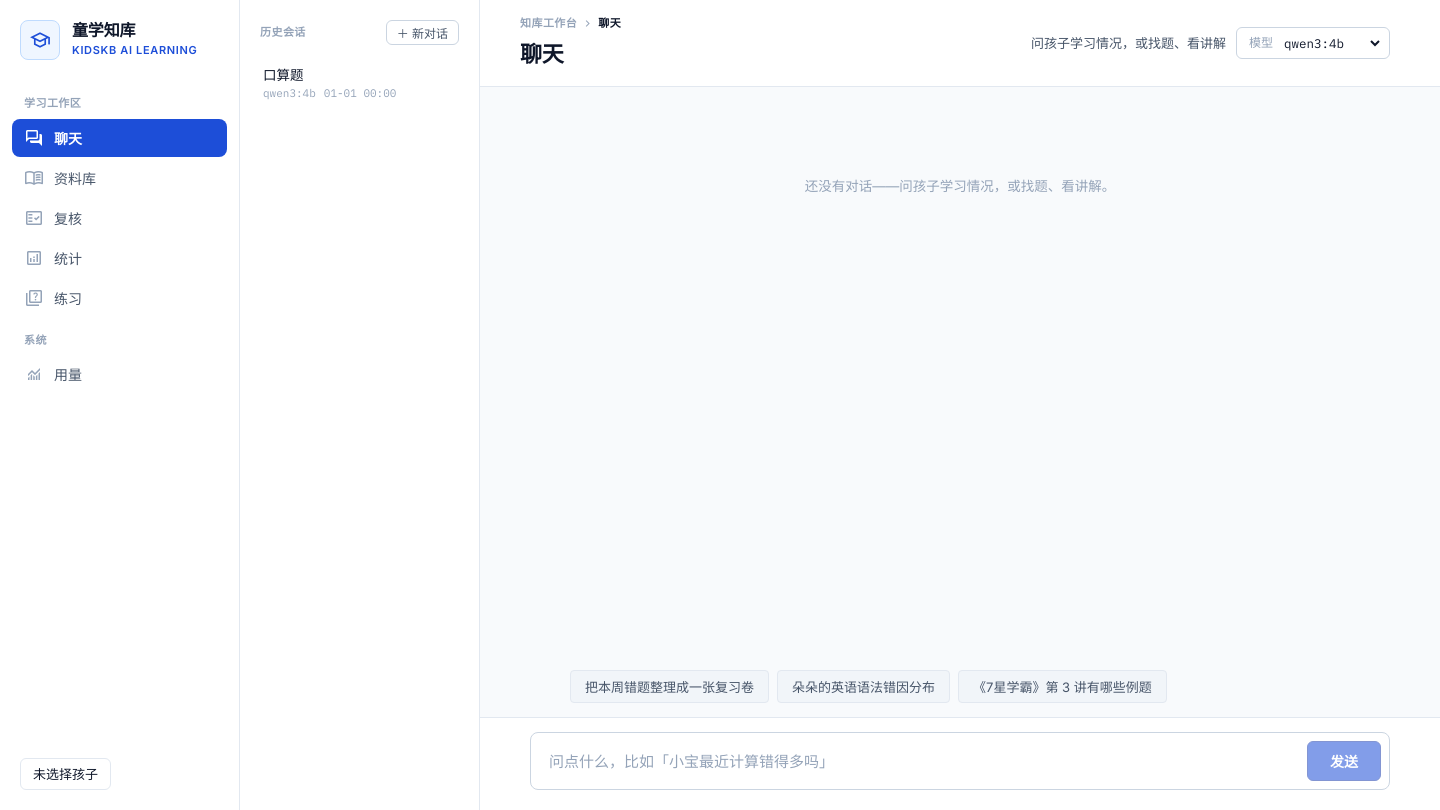
Test: App 集成（会话侧栏 + 模型下拉 + 聊天流） › 挂载加载会话列表与模型下拉；点击历史会话回看消息
Expected: the dropdown named "选择模型" shows "qwen3:4b", [1280,34,1383,52]
Click the text "口算题": (283, 74) [263,64,304,84]
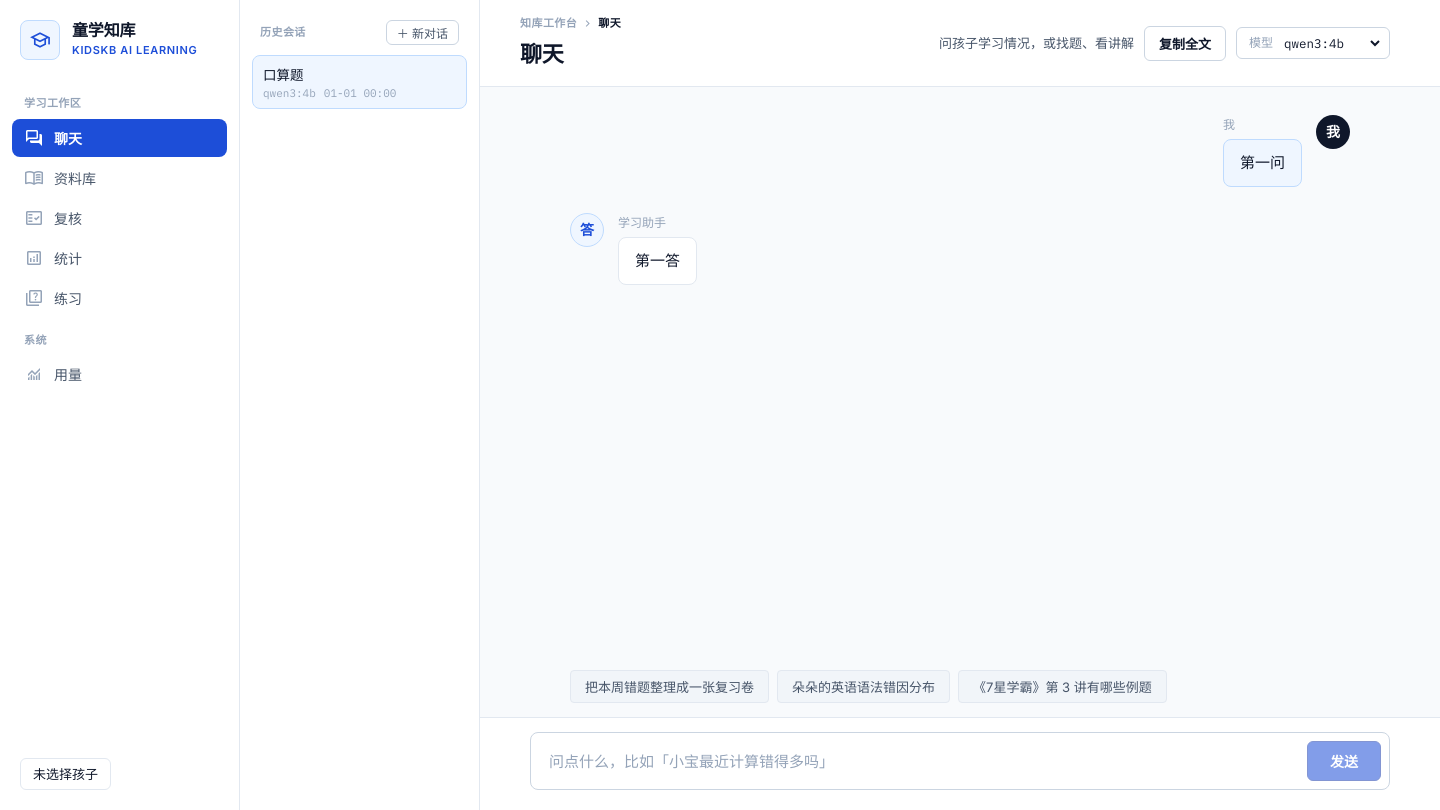
Expected: the text "第一问" is shown, [1223,140,1302,187]
Expected: the text "第一答" is shown, [635,248,680,274]
